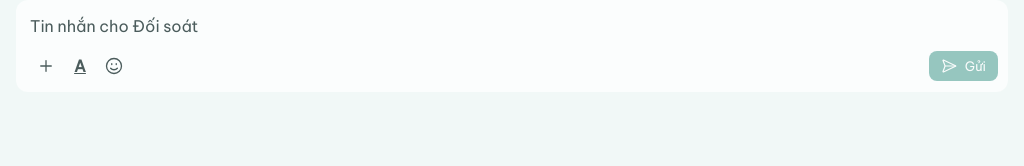
Test: ChatEditor: the pending quote › moves focus to the editor when a quote is chosen, keeps the typed text, and says so
Click the field named "Tin nhắn cho Đối soát" at x=514, y=26, box x1=30 y1=14 x2=998 y2=38
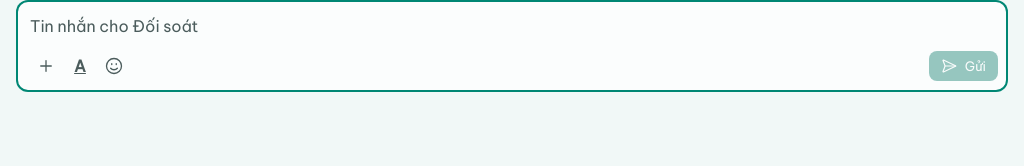
Type keys "đang gõ"
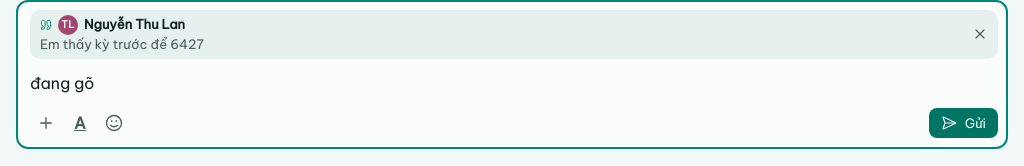
Check: the field labelled "đang gõ" is shown, box x1=30 y1=73 x2=94 y2=93
